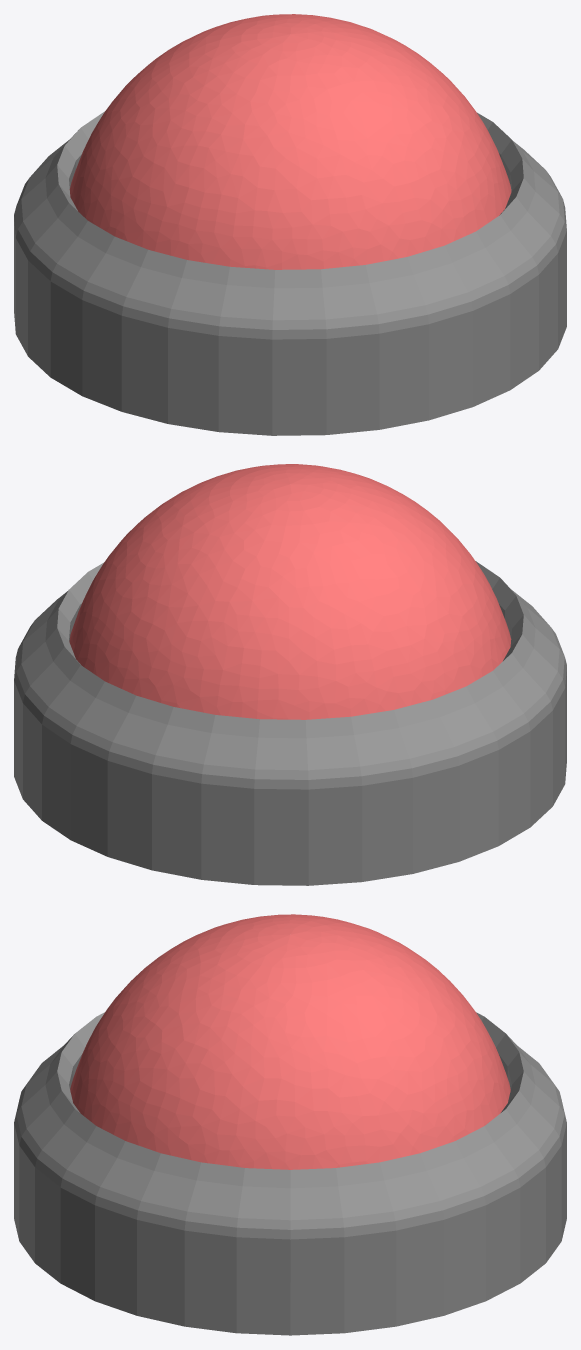
File: m_Button10Final.fbx
3 views of the same model, one above another, from view 1: azimuth 30°, elevation 25°; view 2: azimuth 150°, elevation 25°; view 3: azimuth 270°, elevation 25° (orthographic).
Visible parts, largest first — view 1: Button Base, Button; view 2: Button Base, Button; view 3: Button Base, Button.
Boxes of the visible parts, left/top/right/bottom form: Button Base: left=14, top=111, right=566, bottom=435; Button: left=69, top=14, right=511, bottom=269; Button Base: left=14, top=561, right=566, bottom=885; Button: left=69, top=464, right=511, bottom=719; Button Base: left=14, top=1012, right=566, bottom=1335; Button: left=70, top=914, right=510, bottom=1169.
Size of the model in its own units: 200 by 113 by 200.
Materials: 2 (2 with a texture image).
